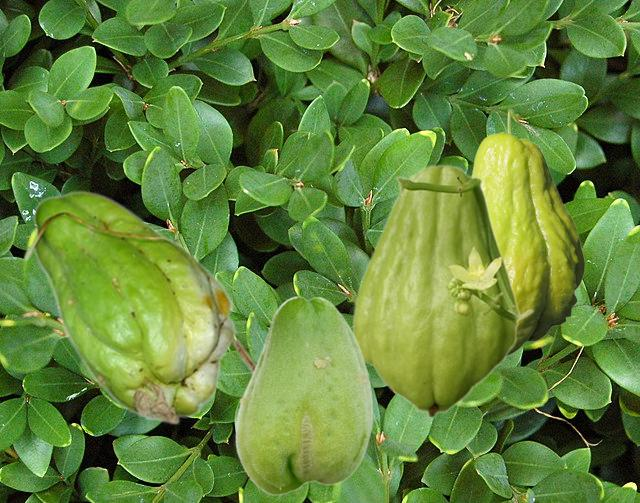sayote: (22, 190, 256, 424), (351, 164, 534, 418), (471, 108, 584, 355), (234, 295, 372, 494)
